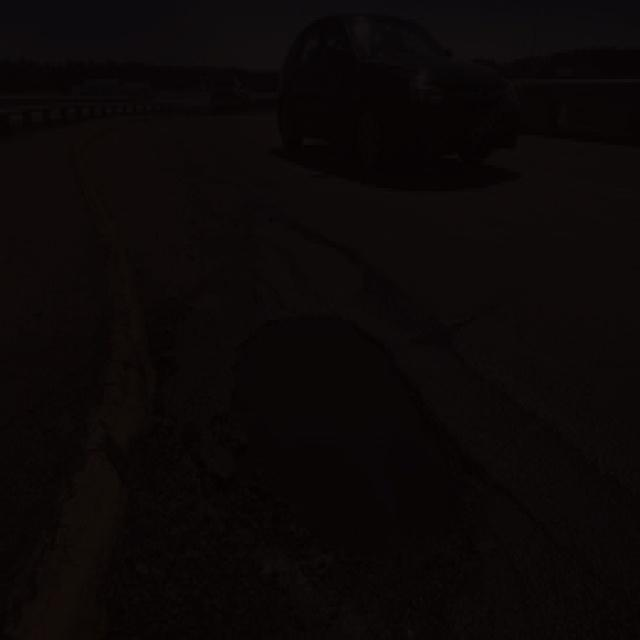Pothole: (202, 295, 480, 617)
